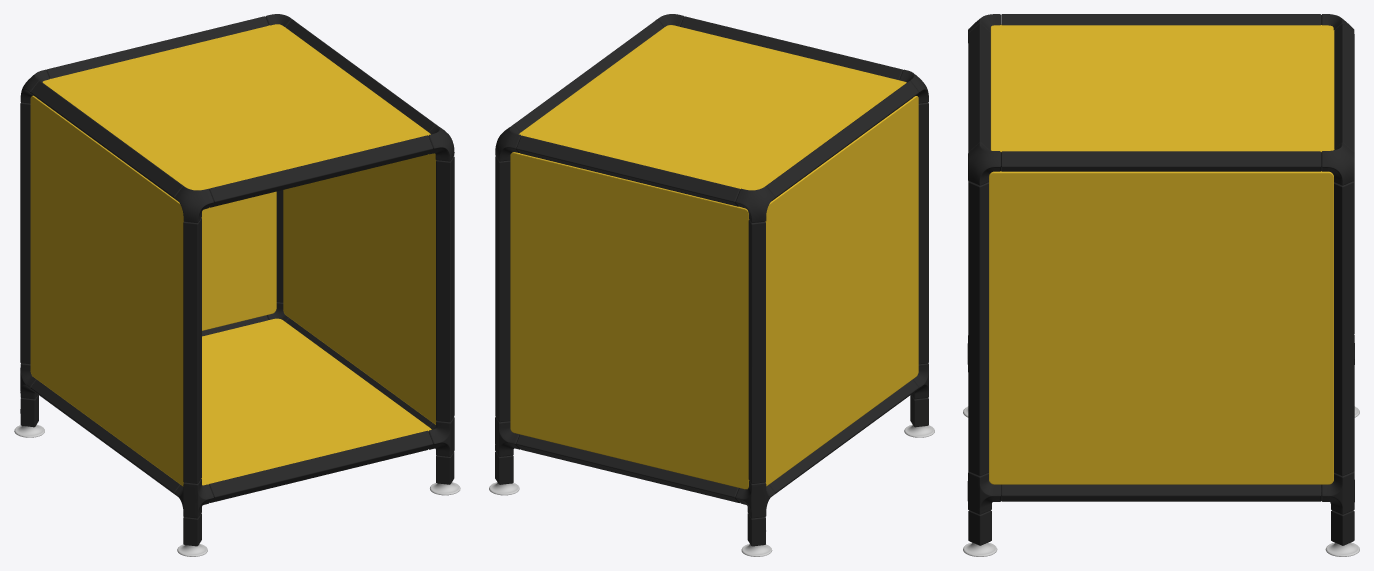
The picture shows the model from 3 angles, left to right: view 1: azimuth 30°, elevation 25°; view 2: azimuth 150°, elevation 25°; view 3: azimuth 270°, elevation 25°; orthographic projection. The views are drawn at different scales.
Visible parts, largest first — view 1: 329x374x374; view 2: 329x374x374; view 3: 329x374x374.
Part boxes in pixels (x1=…): 329x374x374: x1=14, y1=14, x2=460, y2=556; 329x374x374: x1=489, y1=14, x2=934, y2=556; 329x374x374: x1=963, y1=14, x2=1359, y2=556.
Size of the model in its own units: 0.4189 by 0.5133 by 0.4632.
